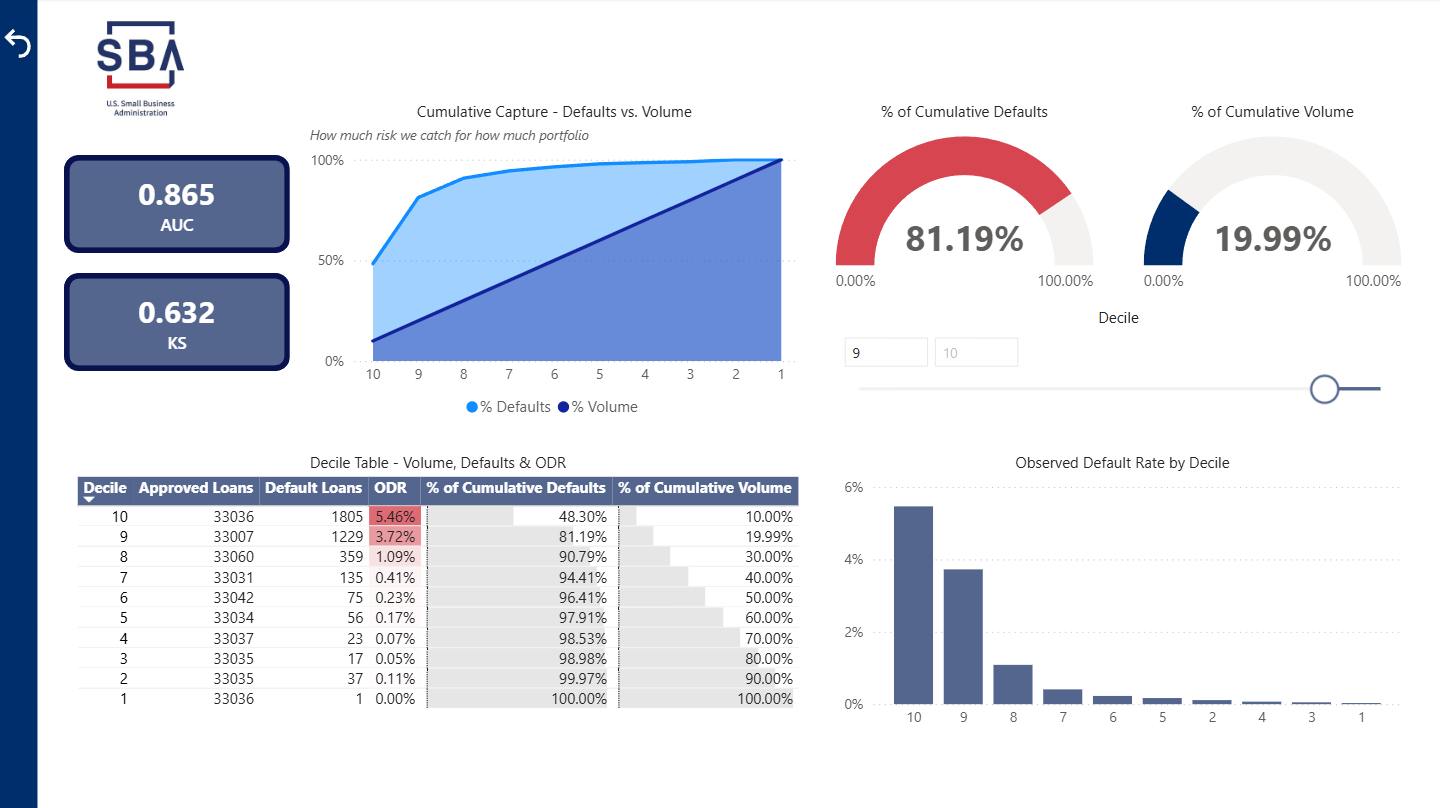

What the dashboard file says about the page in this screenshot:
{"tool":"powerbi","page":{"name":"Risk (PD model)","canvas":[1280,720],"ordinal":1},"visuals":[{"type":"shape","box":[0,0,35.5,720],"z":0},{"type":"shape","box":[549.8,21.3,225.2,100.2],"z":1000},{"type":"card","fields":{"Values":["Avg(decile_summary.avg_pd)"]},"box":[549.5,21.7,225.4,100.5],"z":2000},{"type":"tableEx","title":"Decile Table - Volume, Defaults & ODR","fields":{"Values":["decile_summary.decile","decile_summary.approved_cnt","decile_summary.default_cnt","decile_summary.odr","decile_summary.cum_defaults_%","decile_summary.cum_volume_%","decile_summary.avg_pd"]},"box":[264.3,420.9,531.4,273.4],"z":3000},{"type":"columnChart","title":"Default Rate by Decile","fields":{"Category":["decile_summary.decile"],"Y":["Avg(decile_summary.odr)"]},"box":[264.3,147.6,456.2,248],"z":4000},{"type":"shape","box":[792.2,21.3,225,100],"z":5000},{"type":"areaChart","title":"Cumulative Capture - Defaults vs. Volume","fields":{"Category":["decile_summary.decile"],"Y":["Avg(decile_summary.cum_defaults_%)","Avg(decile_summary.cum_volume_%)"]},"box":[720.6,147.6,559.4,273.4],"z":6000},{"type":"textbox","box":[792.1,30.8,225.4,91.4],"z":7000},{"type":"shape","box":[1034.4,20.4,225.2,100.2],"z":8000},{"type":"textbox","box":[1034.7,32.6,225.4,88.7],"z":9000},{"type":"textbox","box":[64.3,20.8,414.6,89.6],"z":10000},{"type":"textbox","box":[64.3,103.2,446.3,37.1],"z":11000},{"type":"map","title":"Average PD Score by State","fields":{"Category":["fact_loans.project_state"],"Size":["Avg(pd_scores.pd_score)"]},"box":[807.5,420.9,452.6,250.7],"z":12000},{"type":"slicer","title":"Decile","fields":{"Values":["decile_summary.decile"]},"box":[64.3,147.6,177.4,109.5],"z":13000},{"type":"shape","box":[64,258,177,414],"z":14000},{"type":"textbox","box":[73.3,271.1,157.8,387.8],"z":15000}]}

Visuals, with their boxes in screenshot pixels (x1, y1, x2, y2), scaled from the page's 1280x720 canvas onto the 1440x808 screenshot:
shape: bbox=[0, 0, 40, 807]
shape: bbox=[619, 24, 872, 136]
card - Avg(decile_summary.avg_pd): bbox=[618, 24, 872, 137]
"Decile Table - Volume, Defaults & ODR" tableEx: bbox=[297, 472, 895, 779]
"Default Rate by Decile" columnChart: bbox=[297, 166, 811, 444]
shape: bbox=[891, 24, 1144, 136]
"Cumulative Capture - Defaults vs. Volume" areaChart: bbox=[811, 166, 1439, 472]
textbox: bbox=[891, 35, 1145, 137]
shape: bbox=[1164, 23, 1417, 135]
textbox: bbox=[1164, 37, 1418, 136]
textbox: bbox=[72, 23, 539, 124]
textbox: bbox=[72, 116, 574, 157]
"Average PD Score by State" map: bbox=[908, 472, 1418, 754]
"Decile" slicer: bbox=[72, 166, 272, 289]
shape: bbox=[72, 290, 271, 754]
textbox: bbox=[82, 304, 260, 739]
